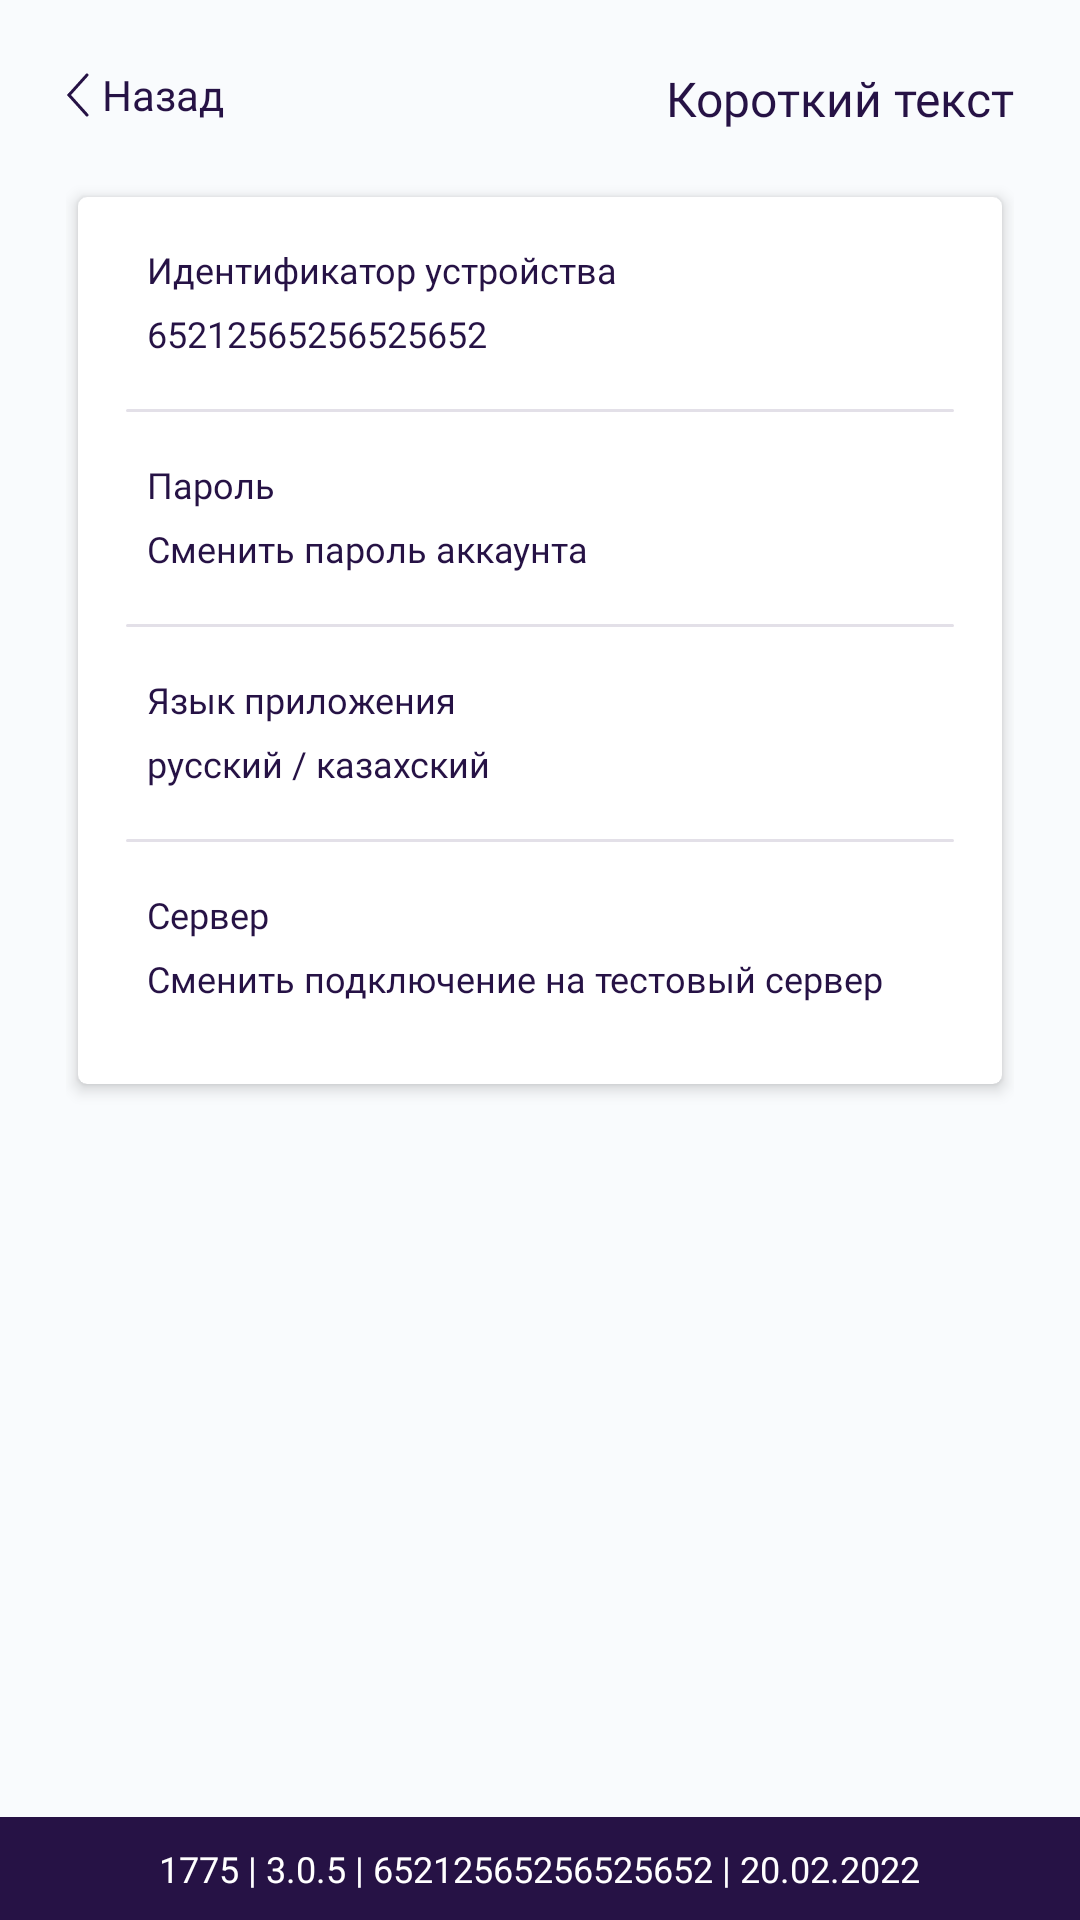

Icons on this 1080×1920 Android screen, each with the point to tap as (x=x, y=y):
arrow: (x=78, y=95)
